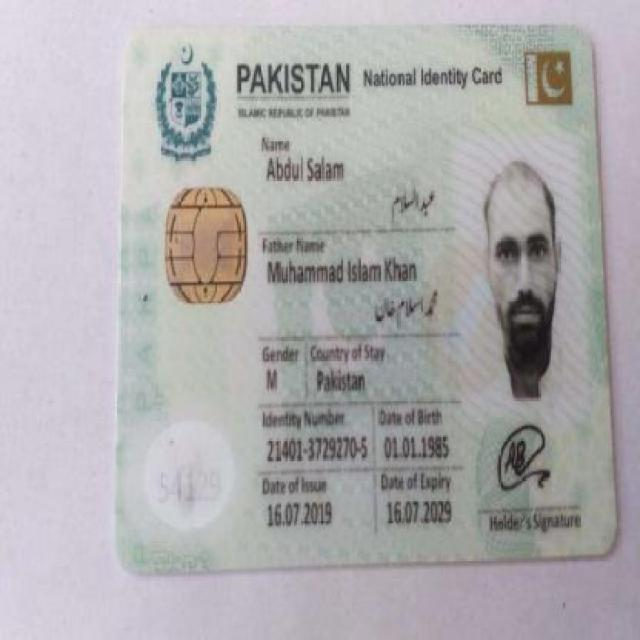Front: (116, 22, 622, 566)
